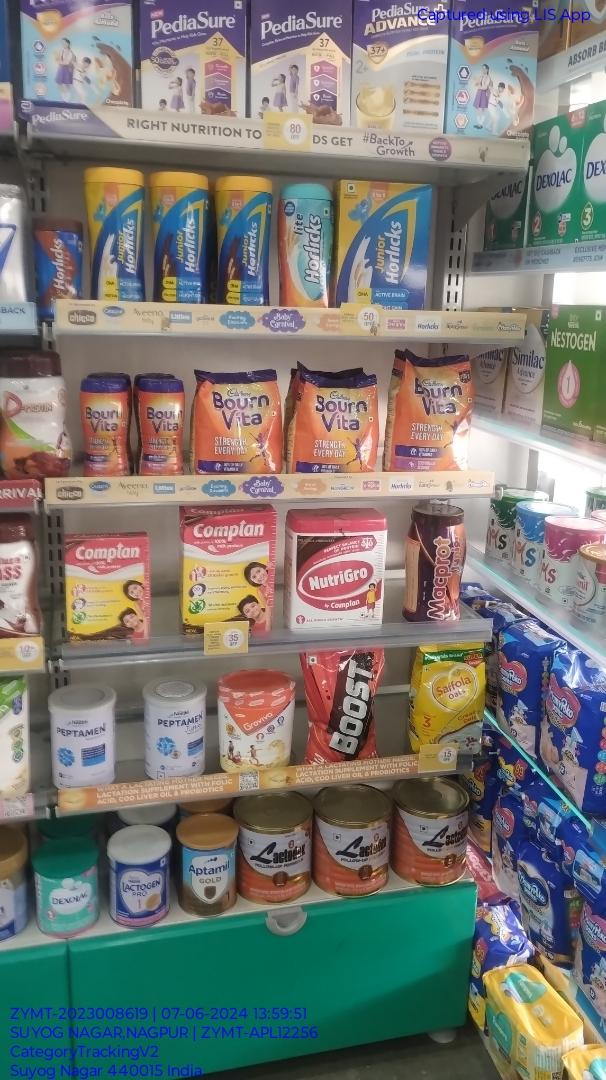BOURN_VITA_200_G_JAR: (81, 374, 132, 476), (139, 379, 183, 478)
BOURN_VITA_500_G_POUCH: (197, 374, 278, 474), (302, 377, 377, 475)
BOURN_VITA_750_G_POUCH: (402, 352, 474, 471)
COMPLAN_CHOCOLATE_200_GMS_PACK: (65, 538, 149, 643)
COMPLAN_CHOCOLATE_500_GMS_PACK: (185, 513, 273, 640)
HORLICKS_JUNIOR_VANILLA_500_GM_JAR: (89, 166, 142, 302)
HORLICKS_LITE_REGULAR_MALT_500_GM_JAR: (278, 182, 332, 308)
HORLICK_CHOCOLATE_200_G_JAR: (33, 218, 81, 309)
PEDIASURE_7_PLUS_CHOCOLATE_400_G_PACK: (451, 0, 537, 138), (21, 0, 129, 108)
PEDIASURE_CHOCOLATE_500_G_PACK: (251, 0, 351, 124), (141, 0, 243, 117)
